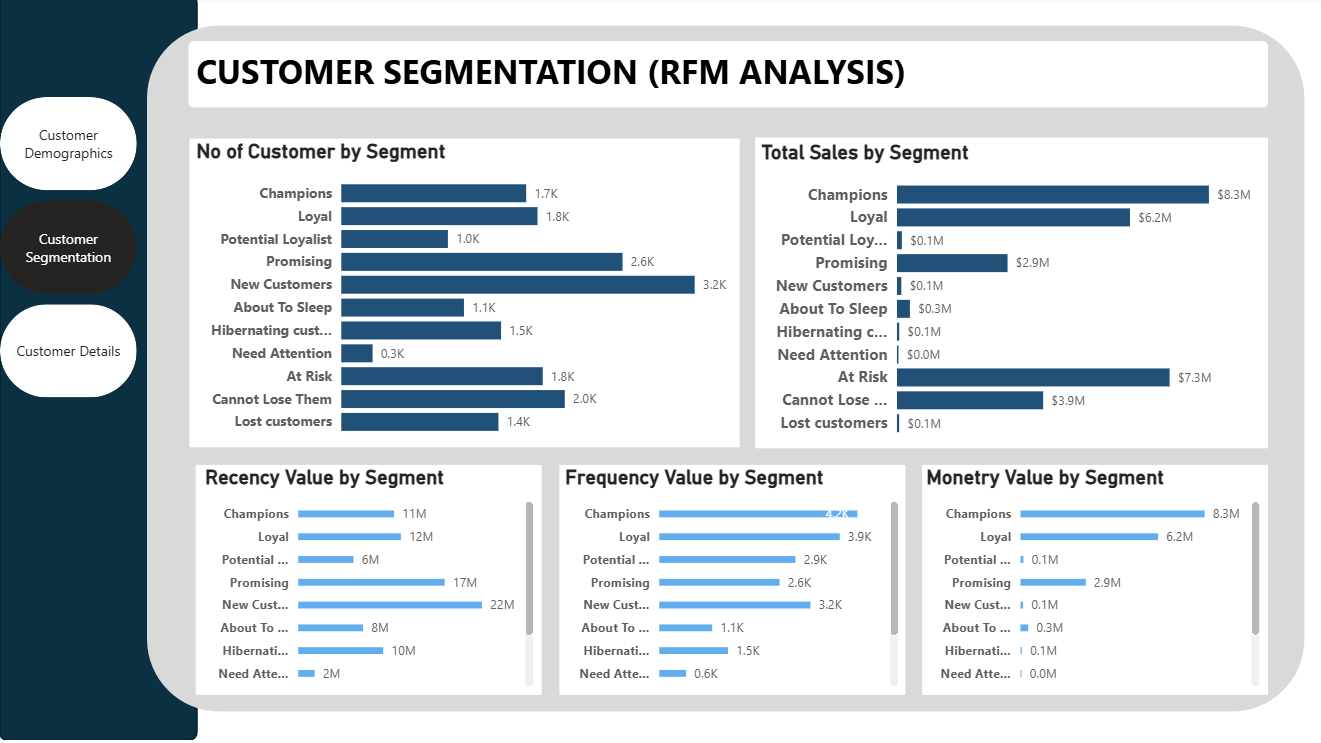

What the dashboard file says about the page in this screenshot:
{"tool":"powerbi","page":{"name":"Customer Segmentation","canvas":[1280,720],"ordinal":1},"visuals":[{"type":"barChart","title":"No of Customer by Segment","fields":{"Category":["Segment Table.Segment"],"Y":["Count(FactInternetSales.CustomerKey)"]},"box":[184.6,137.5,527.2,295.6],"z":0},{"type":"barChart","title":"Total Sales by Segment","fields":{"Category":["Segment Table.Segment"],"Y":["Sum(FactInternetSales.SalesAmount)"]},"box":[729.9,138.7,491,295.6],"z":1000},{"type":"barChart","title":"Recency Value by Segment","fields":{"Y":["Sum(RFM1 Table.Recency Value)"],"Category":["Segment Table.Segment"]},"box":[193,452.4,326.9,218.4],"z":2000},{"type":"barChart","title":"Frequency Value by Segment","fields":{"Category":["Segment Table.Segment"],"Y":["Sum(RFM1 Table.Frequency Value)"]},"box":[540.5,452.4,331.8,218.4],"z":3000},{"type":"barChart","title":"Monetry Value by Segment","fields":{"Category":["Segment Table.Segment"],"Y":["Sum(RFM1 Table.Monetry Value)"]},"box":[889.1,452.4,331.8,218.4],"z":4000},{"type":"textbox","box":[184.6,44.6,732.3,61.5],"z":5000},{"type":"pageNavigator","box":[0,96.5,132.7,290.8],"z":5001}]}

Visuals, with their boxes in screenshot pixels (x1, y1, x2, y2), scaled from the page's 1280x720 canvas onto the 1321x743 screenshot:
"No of Customer by Segment" barChart: 191, 142, 735, 447
"Total Sales by Segment" barChart: 753, 143, 1260, 448
"Recency Value by Segment" barChart: 199, 467, 537, 692
"Frequency Value by Segment" barChart: 558, 467, 900, 692
"Monetry Value by Segment" barChart: 918, 467, 1260, 692
textbox: 191, 46, 946, 109
pageNavigator: 0, 100, 137, 400
